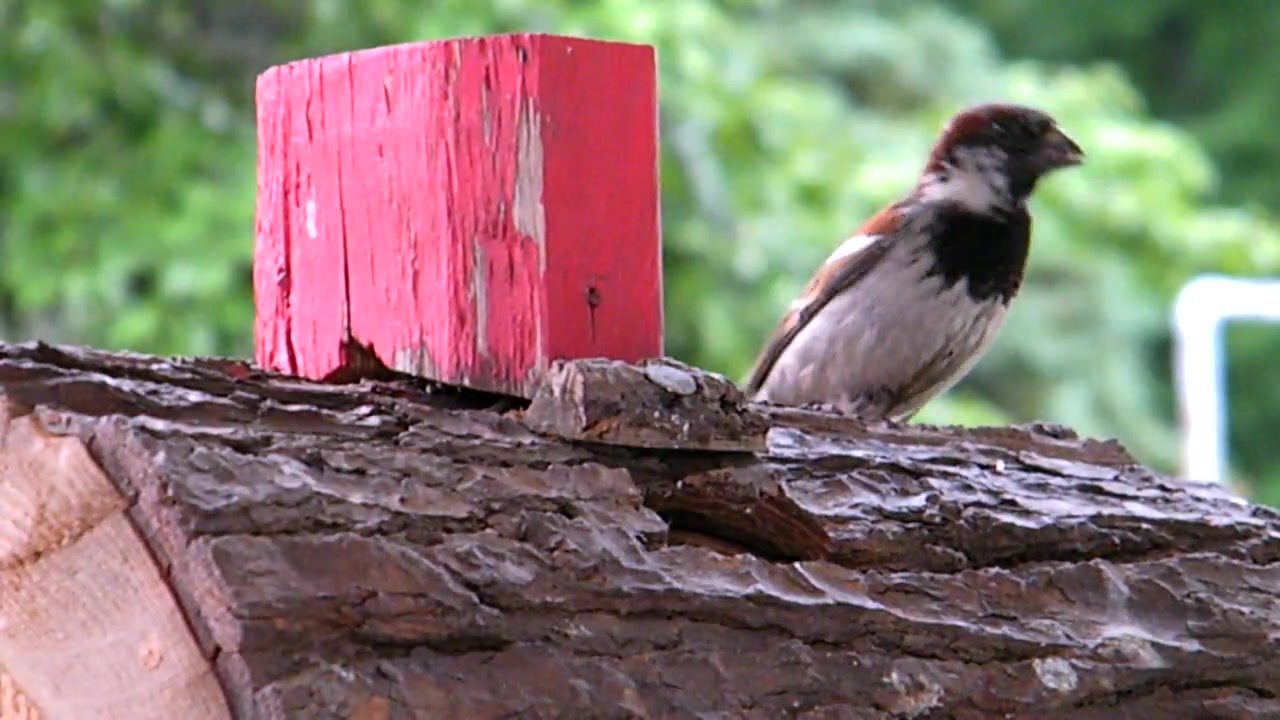bird: (738, 104, 1088, 427)
